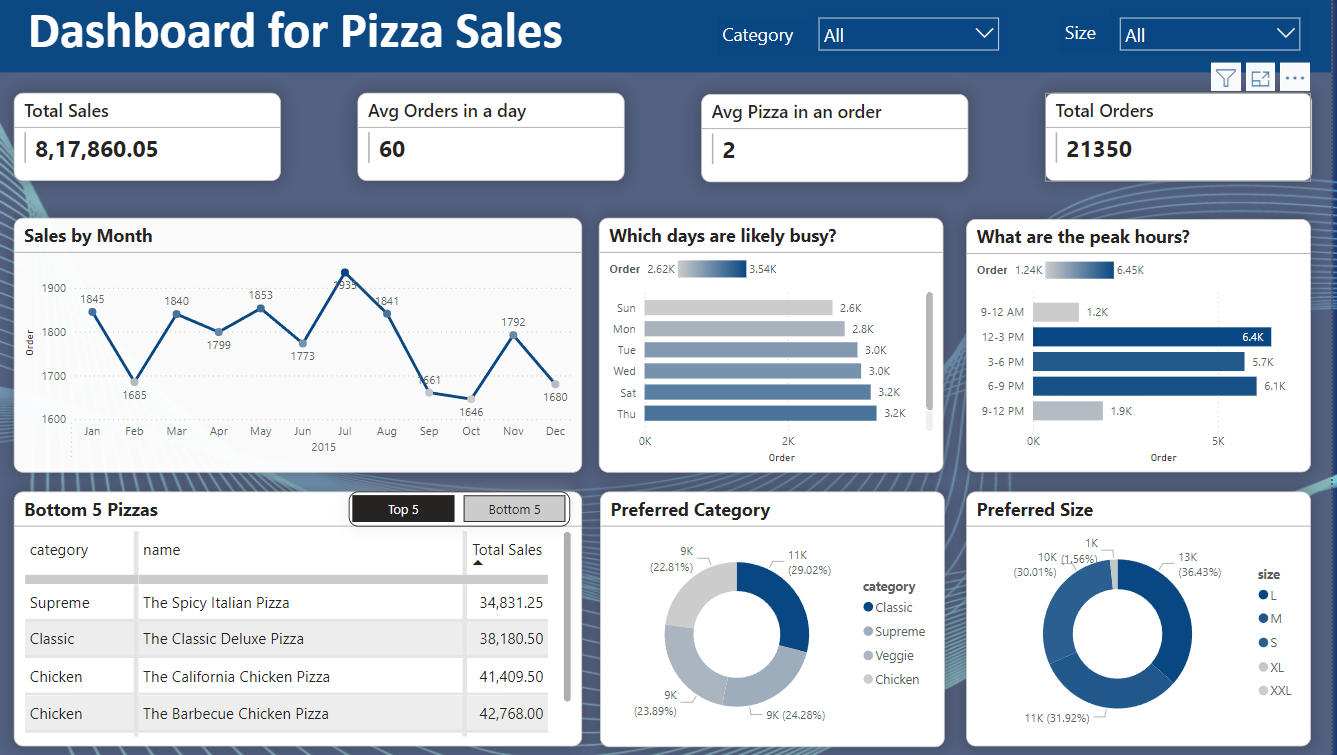

This screenshot's page, from the dashboard's own definition file:
{"tool":"powerbi","page":{"name":"Page 1","canvas":[1400,900],"ordinal":0},"visuals":[{"type":"textbox","box":[0,0,1399.7,82.8],"z":0},{"type":"barChart","title":"What are the peak hours?","fields":{"Category":["orders.Time Slot"],"Y":["All Measures.Order"]},"box":[1016.2,236.6,362.7,266.8],"z":1000},{"type":"barChart","title":"Which days are likely busy?","fields":{"Y":["All Measures.Order"],"Category":["Date Table.Day"]},"box":[629.9,235.3,362.7,268.1],"z":2000},{"type":"lineChart","title":"Sales by Month","fields":{"Category":["Date Table.Year","Date Table.Month"],"Y":["All Measures.Order"]},"box":[14.8,235.3,598,268.1],"z":3000},{"type":"donutChart","title":"Preferred Category","fields":{"Y":["All Measures.Order"],"Category":["pizza_types.category"]},"box":[630.3,522.5,362.4,269.1],"z":4000},{"type":"donutChart","title":"Preferred Size","fields":{"Y":["All Measures.Order"],"Category":["pizzas.size"]},"box":[1016.2,523.1,362.7,268.1],"z":5000},{"type":"tableEx","title":"Bottom 5 Pizzas","fields":{"Values":["pizza_types.category","pizza_types.name","All Measures.Total Sales"]},"box":[14.8,523.1,598,268.1],"z":7000},{"type":"bookmarkNavigator","box":[366.7,523.1,232.6,36.8],"z":8000},{"type":"multiRowCard","title":"Total Sales","fields":{"Values":["All Measures.Total Sales"]},"box":[14.2,104.1,280.9,93.1],"z":9000},{"type":"multiRowCard","title":"Avg Orders in a day","fields":{"Values":["All Measures.Avg order in a day"]},"box":[375.6,104.1,280.9,93.1],"z":10000},{"type":"multiRowCard","title":"Total Orders","fields":{"Values":["All Measures.Order"]},"box":[1098.3,104.1,280.9,93.1],"z":11000},{"type":"multiRowCard","title":"Avg Pizza in an order","fields":{"Values":["All Measures.Avg Pizzas in an order"]},"box":[736.9,105.7,280.9,93.1],"z":12000},{"type":"slicer","fields":{"Values":["pizzas.size"]},"box":[1166.8,14.3,209.9,50.5],"z":13000},{"type":"slicer","fields":{"Values":["pizza_types.category"]},"box":[850.6,14.9,209.9,50.5],"z":14000},{"type":"textbox","box":[1114.1,22.1,52.1,39.5],"z":15000},{"type":"textbox","box":[754.3,25.2,97.8,39.5],"z":16000}]}

Visuals, with their boxes on the page's 1400x900 design canvas (x1, y1, x2, y2). These are canvas units, not pixel positions in the 1337x755 screenshot, which may show the page scaled, cropped or inside an application window:
textbox: (left=0, top=0, right=1400, bottom=83)
"What are the peak hours?" barChart: (left=1016, top=237, right=1379, bottom=503)
"Which days are likely busy?" barChart: (left=630, top=235, right=993, bottom=503)
"Sales by Month" lineChart: (left=15, top=235, right=613, bottom=503)
"Preferred Category" donutChart: (left=630, top=522, right=993, bottom=792)
"Preferred Size" donutChart: (left=1016, top=523, right=1379, bottom=791)
"Bottom 5 Pizzas" tableEx: (left=15, top=523, right=613, bottom=791)
bookmarkNavigator: (left=367, top=523, right=599, bottom=560)
"Total Sales" multiRowCard: (left=14, top=104, right=295, bottom=197)
"Avg Orders in a day" multiRowCard: (left=376, top=104, right=656, bottom=197)
"Total Orders" multiRowCard: (left=1098, top=104, right=1379, bottom=197)
"Avg Pizza in an order" multiRowCard: (left=737, top=106, right=1018, bottom=199)
slicer - pizzas.size: (left=1167, top=14, right=1377, bottom=65)
slicer - pizza_types.category: (left=851, top=15, right=1060, bottom=65)
textbox: (left=1114, top=22, right=1166, bottom=62)
textbox: (left=754, top=25, right=852, bottom=65)
